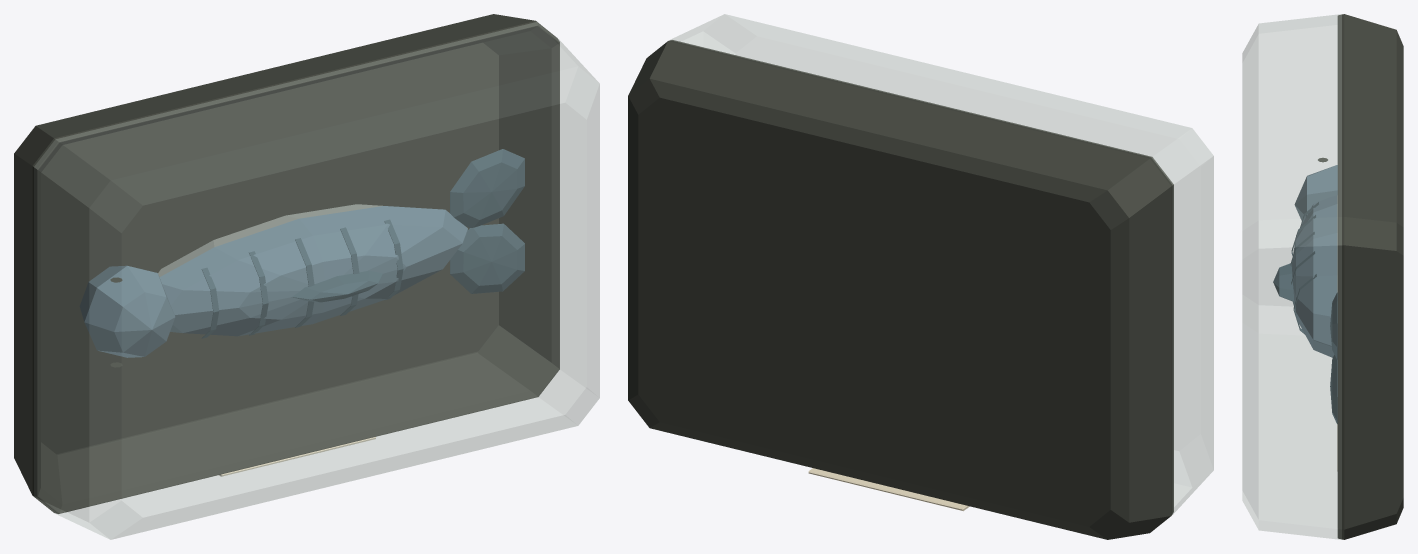
File: mackerel.glb
3 views of the same model, side by side, from view 1: azimuth 30°, elevation 25°; view 2: azimuth 150°, elevation 25°; view 3: azimuth 270°, elevation 25° (orthographic). The views are drawn at different scales.
Visible parts, largest first — view 1: mackerel; view 2: mackerel; view 3: mackerel.
Part boxes in pixels (x1,y1,x2,y2): mackerel: [14, 14, 599, 539]; mackerel: [628, 14, 1213, 539]; mackerel: [1242, 14, 1403, 539].
Bounding box in the file's own units: 0.22 × 0.153 × 0.068.
